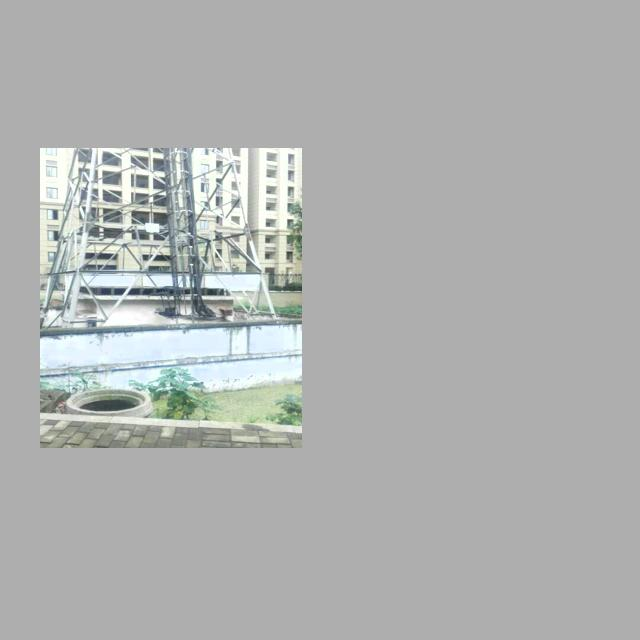lose: (61, 382, 156, 412)
